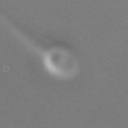normal: (1, 11, 44, 53)
